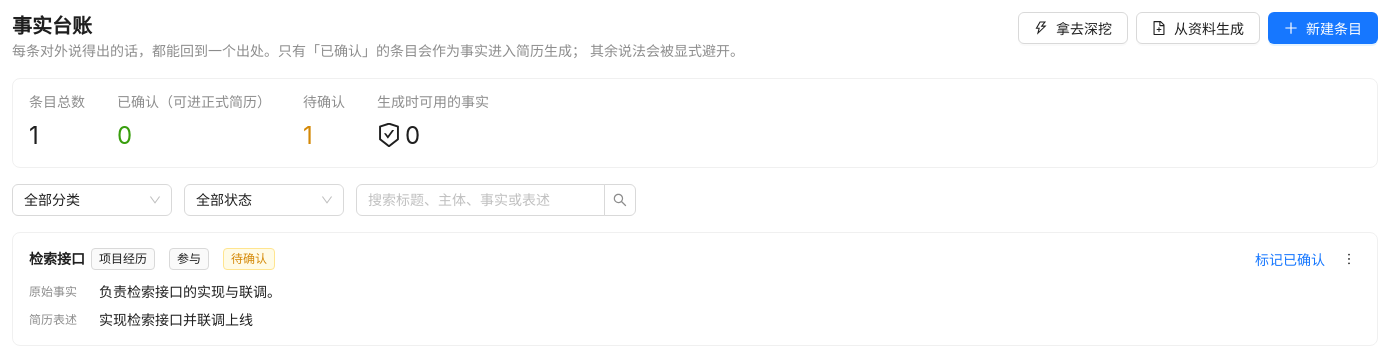
Test: ClaimsPage › surfaces the backend rejection when a confirmed entry still has a placeholder
The width and height of the screenshot is (1390, 363).
Expected: the text "检索接口" is shown, [29,250,85,267]
Click the button "标记已确认".
click(1290, 259)  # box [1247,247,1333,271]
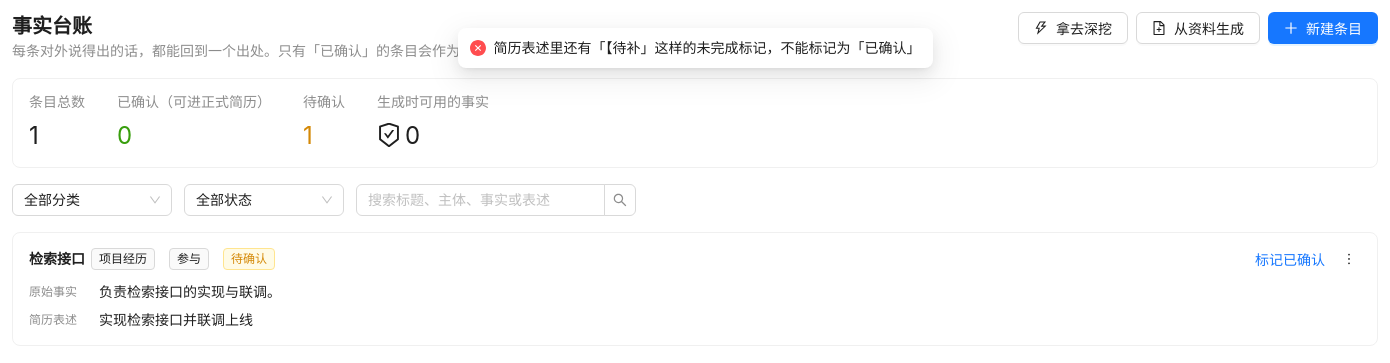
Expected: the text "简历表述里还有「【待补」这样的未完成标记，不能标记为「已确认」" is shown, [494,37,920,59]
